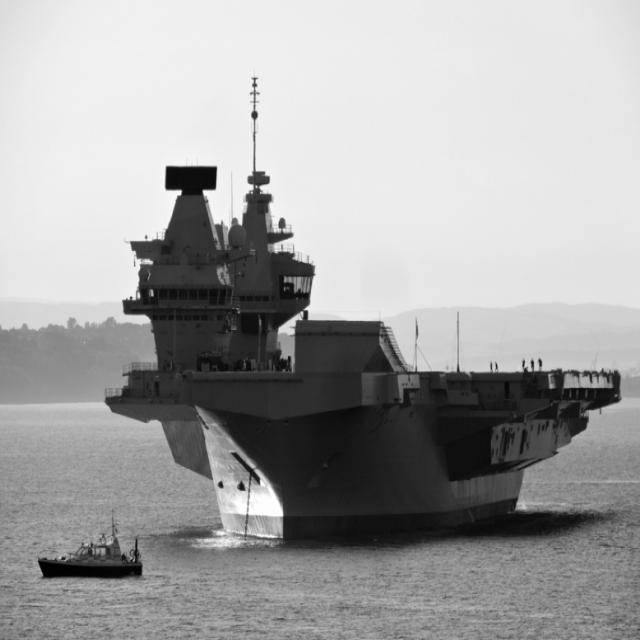Portanaves: (106, 67, 629, 549)
